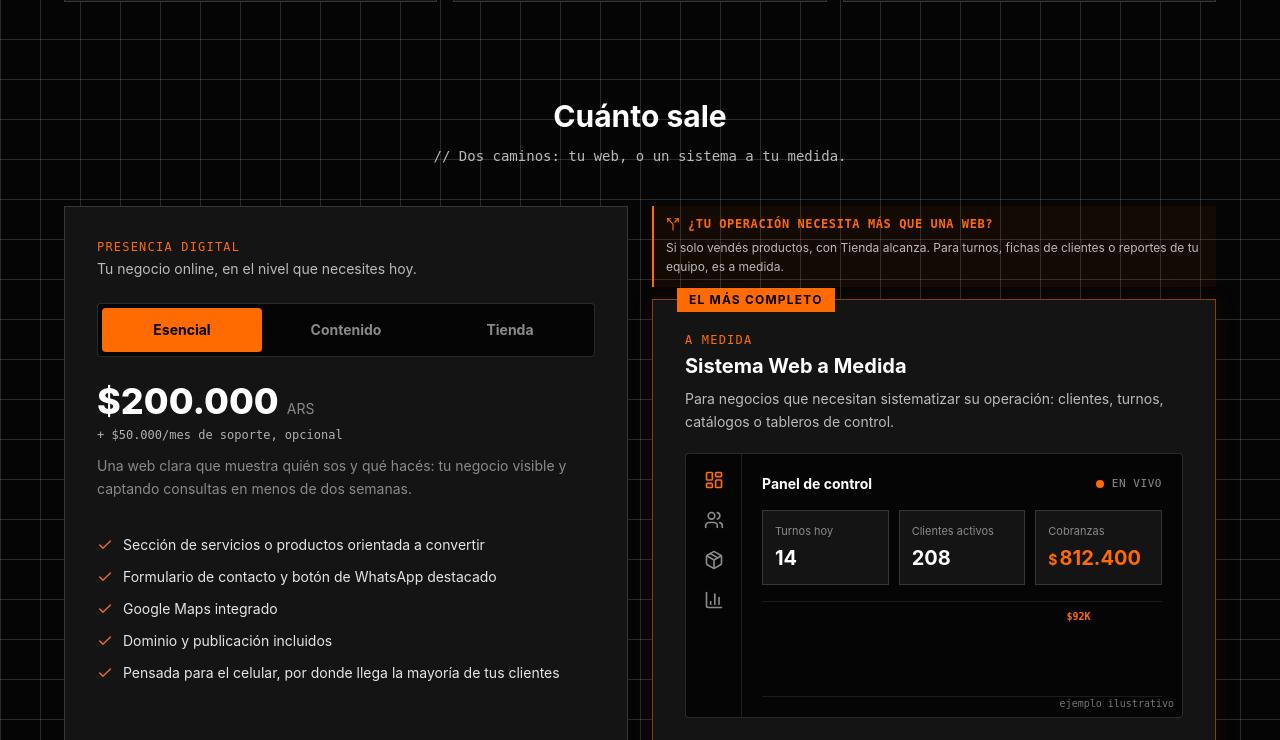
Scenario: Desarrollo page with reduced motion › still lets the presencia stepper switch levels
The image size is (1280, 740).
(page scrolled)
Expected: the text "$200.000" is shown, [97,381,279,421]
Step 1. Click the button "Tienda" → (510, 330), box [430,308,590,352]
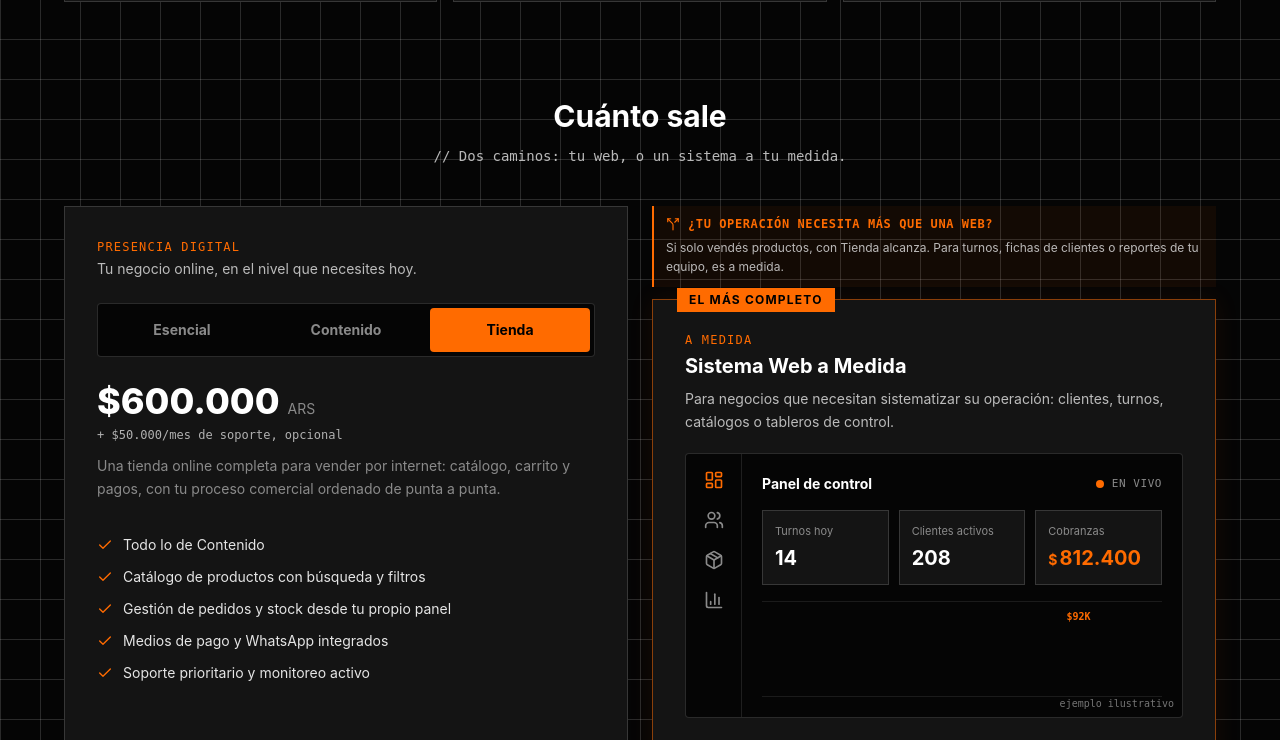
Now the text "$600.000" is shown, box [97,381,280,421]
